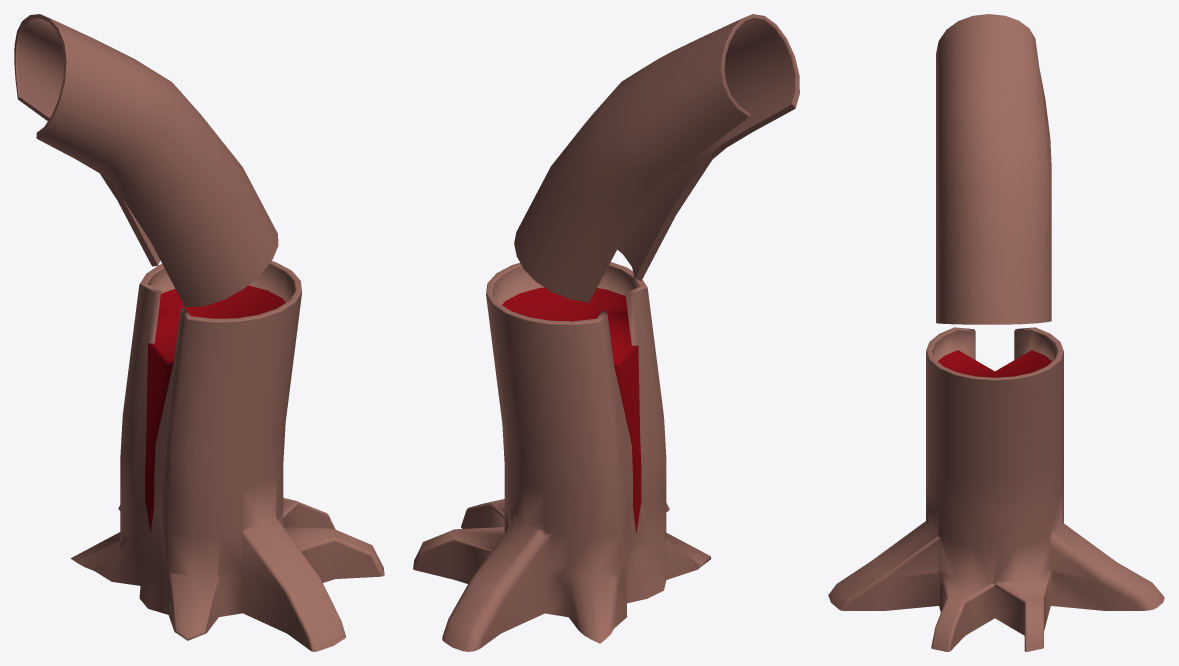
File: trunk_1.fbx
3 renders of one model, left to right at view 1: azimuth 30°, elevation 25°; view 2: azimuth 150°, elevation 25°; view 3: azimuth 270°, elevation 25°, orthographic. The views are drawn at different scales.
Parts seen in each view (by area): view 1: polySurface37; view 2: polySurface37; view 3: polySurface37.
Boxes of the visible parts, x1=… form: polySurface37: x1=14, y1=14, x2=384, y2=651; polySurface37: x1=413, y1=14, x2=799, y2=651; polySurface37: x1=828, y1=14, x2=1164, y2=651.
Size of the model in its own units: 267 by 452 by 270.
